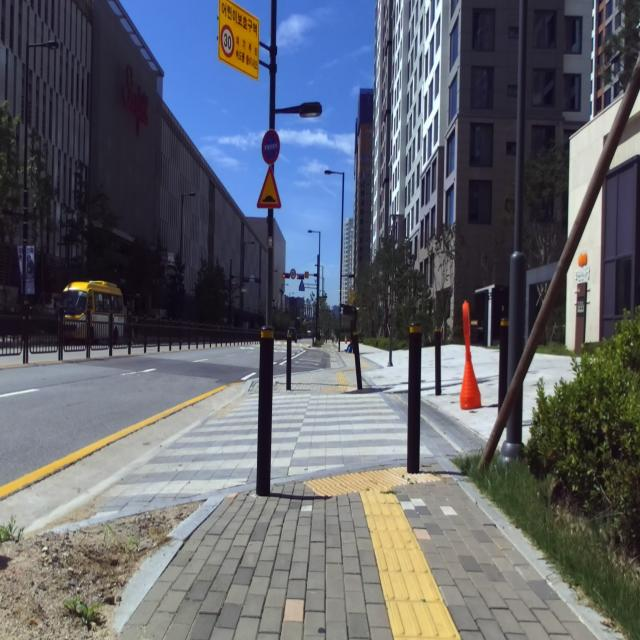횡단보도: (92, 394, 434, 518)
